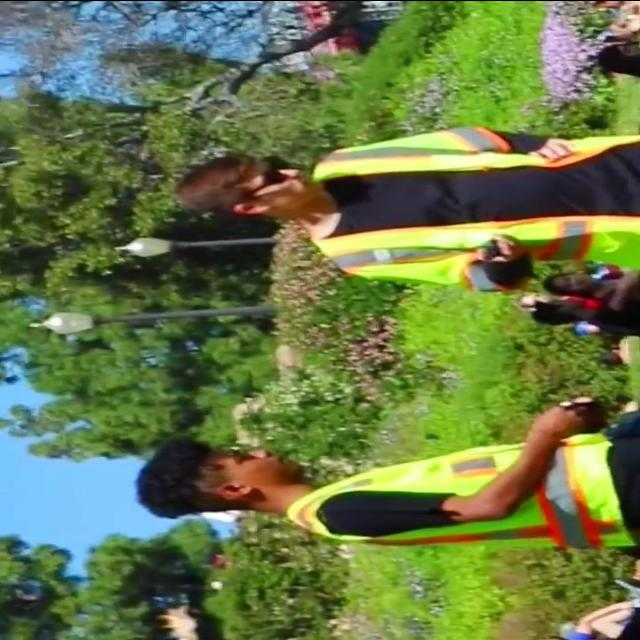jacket: (301, 118, 640, 298), (280, 430, 628, 568)
